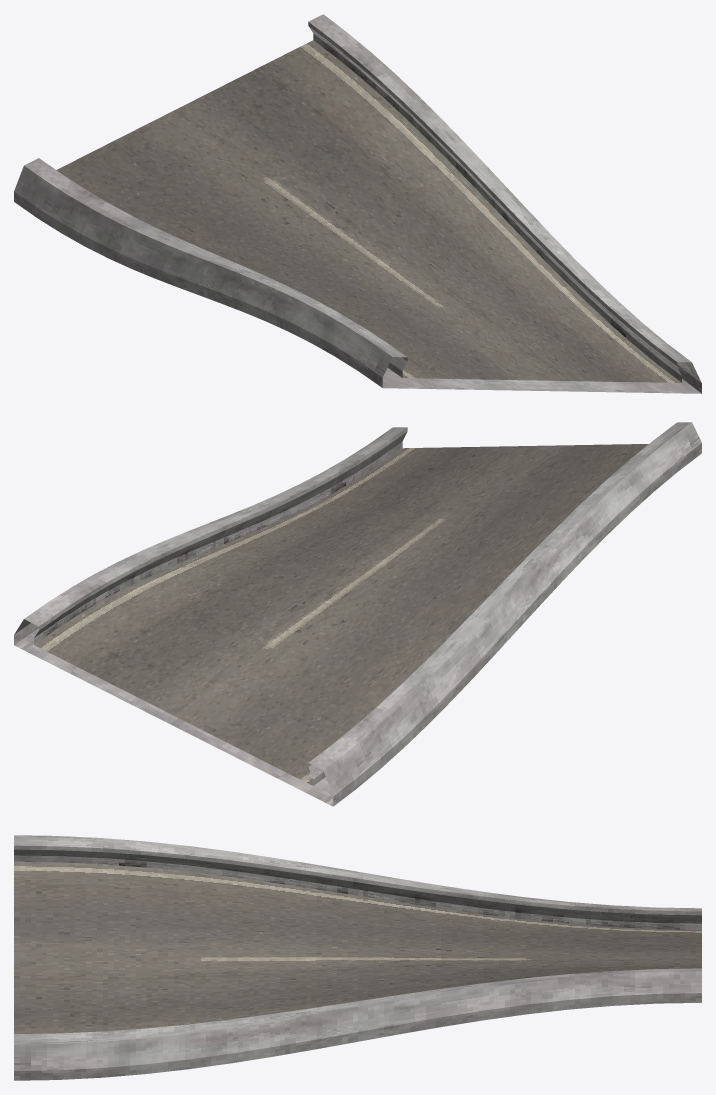
File: straight2.glb
3 views of the same model, one above another, from view 1: azimuth 30°, elevation 25°; view 2: azimuth 150°, elevation 25°; view 3: azimuth 270°, elevation 25° (orthographic). The views are drawn at different scales.
Visible parts, largest first — view 1: road-Straight-HalfBankedRight-HalfBankedLeft-Even-Center-Siz; view 2: road-Straight-HalfBankedRight-HalfBankedLeft-Even-Center-Siz; view 3: road-Straight-HalfBankedRight-HalfBankedLeft-Even-Center-Siz.
Boxes of the visible parts, <box> form: road-Straight-HalfBankedRight-HalfBankedLeft-Even-Center-Siz: <box>14,14,701,393</box>; road-Straight-HalfBankedRight-HalfBankedLeft-Even-Center-Siz: <box>14,422,701,806</box>; road-Straight-HalfBankedRight-HalfBankedLeft-Even-Center-Siz: <box>14,835,701,1080</box>.
Bounding box in the file's own units: 1 × 0.3359 × 2.
Materials: 2 (2 with a texture image).
